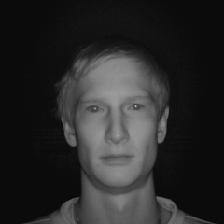normal: (48, 39, 176, 193)
